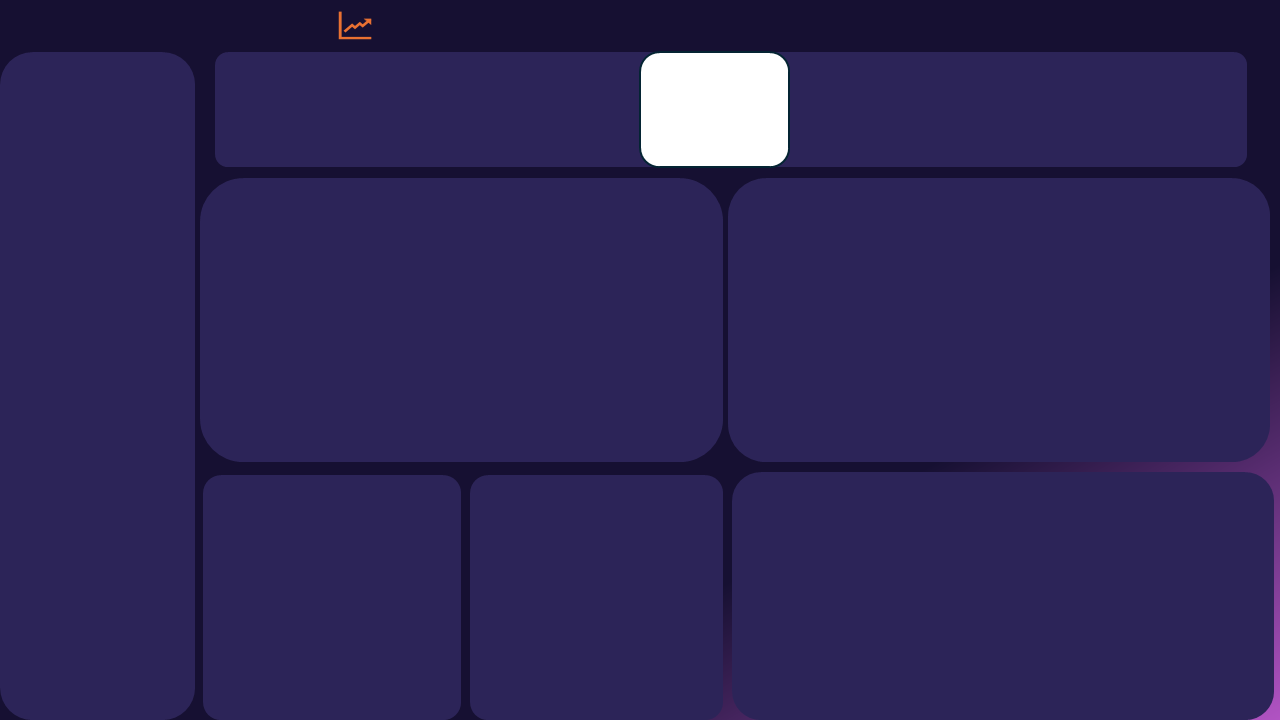

Layout of this report page (visuals, bound fields, positions):
{"tool":"powerbi","page":{"name":"Main","canvas":[1280,720],"ordinal":0},"visuals":[{"type":"slicer","fields":{"Values":["Financial_Data.Sector Hierarchy.Sector"]},"box":[219.6,68.7,175.5,78.5],"z":0},{"type":"slicer","fields":{"Values":["Calendar.Quarter"]},"box":[1051.1,68.4,175.4,78.4],"z":1000},{"type":"slicer","fields":{"Values":["Financial_Data.Sector Hierarchy.Company Name"]},"box":[429.8,68.4,175.4,78.4],"z":2000},{"type":"slicer","fields":{"Values":["Calendar.Year"]},"box":[835.3,68.4,175.4,78.4],"z":3000},{"type":"group","id":"g1","title":"Group 1","box":[639.5,50,150,116.3],"z":4000},{"type":"imageDB603108E3FF4EBFB8047F5653368E8C","fields":{"imageUrl":["Sheet1.URL"]},"box":[639.5,50,149.3,116.6],"z":4000,"group":"g1"},{"type":"textbox","box":[8.6,0,341.1,42.9],"z":5000},{"type":"payPalKPIDonutChart55A431AB15A540ED924ACD72ED8D259F","fields":{"myvalue":["Financial_Data.Debt to Capital Ratio"]},"box":[0,63.1,198.3,220.4],"z":6000,"group":"g2"},{"type":"lineChart","title":"Average Closing Stock Price by Date","fields":{"Y":["Avg(Stock_Data.Close)"],"Category":["Stock_Data.Date"]},"box":[207,187.2,508.1,266.3],"z":6000},{"type":"cardVisual","fields":{"Data":["Financial_Data.Gross Profit Margin"]},"box":[0,276.8,198.8,114.2],"z":7000,"group":"g2"},{"type":"stackedAreaChart","title":"Current and Non-Current Assets by Year-Quarter","fields":{"Category":["Calendar.Year-Quarter"],"Y":["Sum(Financial_Data.Current Assets)","Sum(Financial_Data.Total Non Current Assets)"]},"box":[731.4,472.1,539.5,240.7],"z":7000},{"type":"clusteredColumnChart","fields":{"Category":["Calendar.Year-Quarter"],"Y":["Sum(Financial_Data.Total Revenue)","Sum(Financial_Data.Net Income)","Sum(Financial_Data.Gross Profit)","Sum(Financial_Data.Operating Income)"]},"box":[731.4,187.2,526.7,266.3],"z":8000},{"type":"cardVisual","fields":{"Data":["Financial_Data.Net Profit Margin"]},"box":[0,384.4,198.6,113.9],"z":8000,"group":"g2"},{"type":"tableEx","fields":{"Values":["Calendar.Year-Quarter","Avg(Stock_Data.Close)"]},"box":[207,472.1,252.3,240.7],"z":9000},{"type":"cardVisual","fields":{"Data":["Financial_Data.Return on Assets (ROA)"]},"box":[0,491.6,198.6,114.2],"z":9000,"group":"g2"},{"type":"pieChart","title":"Current Liabilities and  Non Current Liabilities","fields":{"Y":["Sum(Financial_Data.Total Liabilities Net Minority Interest)","Sum(Financial_Data.Total Non Current Liabilities Net Minority Interest)"]},"box":[477.9,472.1,237.2,240.7],"z":10000},{"type":"cardVisual","fields":{"Data":["Financial_Data.Return on Equity (ROE)"]},"box":[0,599.2,198.6,113.9],"z":10000,"group":"g2"},{"type":"group","id":"g2","title":"Group 2","box":[0,63.1,198.8,650],"z":11000}]}

Visuals, with their boxes on the page's 1280x720 design canvas (x1, y1, x2, y2). These are canvas units, not pixel positions in the 1280x720 screenshot, which may show the page scaled, cropped or inside an application window:
slicer - Financial_Data.Sector Hierarchy.Sector: [220,69,395,147]
slicer - Calendar.Quarter: [1051,68,1226,147]
slicer - Financial_Data.Sector Hierarchy.Company Name: [430,68,605,147]
slicer - Calendar.Year: [835,68,1011,147]
"Group 1" group: [640,50,790,166]
imageDB603108E3FF4EBFB8047F5653368E8C - Sheet1.URL: [640,50,789,167]
textbox: [9,0,350,43]
payPalKPIDonutChart55A431AB15A540ED924ACD72ED8D259F - Financial_Data.Debt to Capital Ratio: [0,63,198,284]
"Average Closing Stock Price by Date" lineChart: [207,187,715,454]
cardVisual - Financial_Data.Gross Profit Margin: [0,277,199,391]
"Current and Non-Current Assets by Year-Quarter" stackedAreaChart: [731,472,1271,713]
clusteredColumnChart - Calendar.Year-Quarter x Sum(Financial_Data.Total Revenue): [731,187,1258,454]
cardVisual - Financial_Data.Net Profit Margin: [0,384,199,498]
tableEx - Calendar.Year-Quarter x Avg(Stock_Data.Close): [207,472,459,713]
cardVisual - Financial_Data.Return on Assets (ROA): [0,492,199,606]
"Current Liabilities and  Non Current Liabilities" pieChart: [478,472,715,713]
cardVisual - Financial_Data.Return on Equity (ROE): [0,599,199,713]
"Group 2" group: [0,63,199,713]
